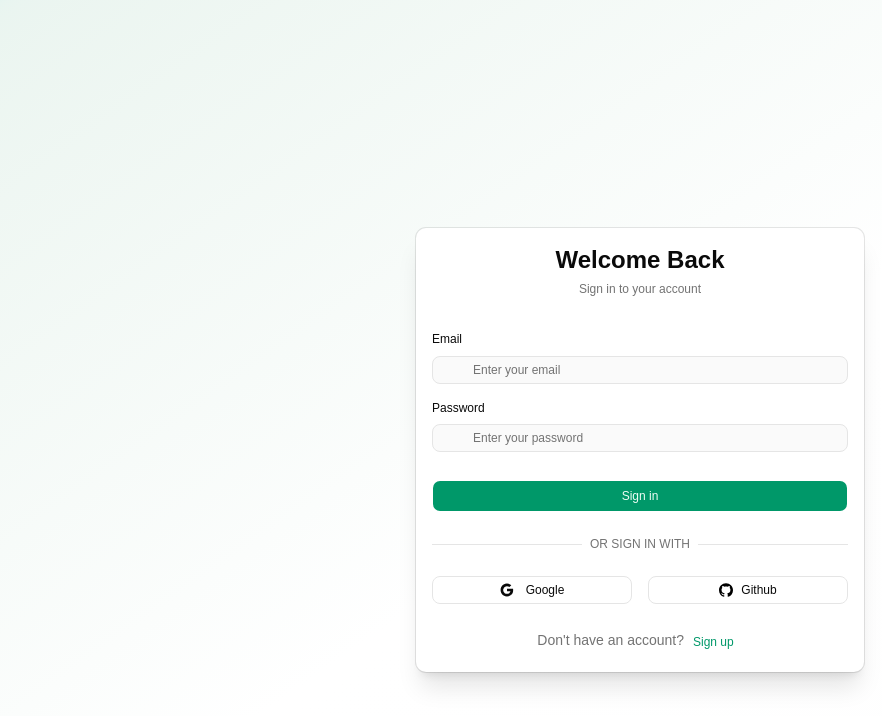
Test: LoginPage › form submission › shows server error message on failed login
The width and height of the screenshot is (882, 716).
Type "reda@example.com" into the field labelled "Email" at (640, 370), box [432,356,848,384]
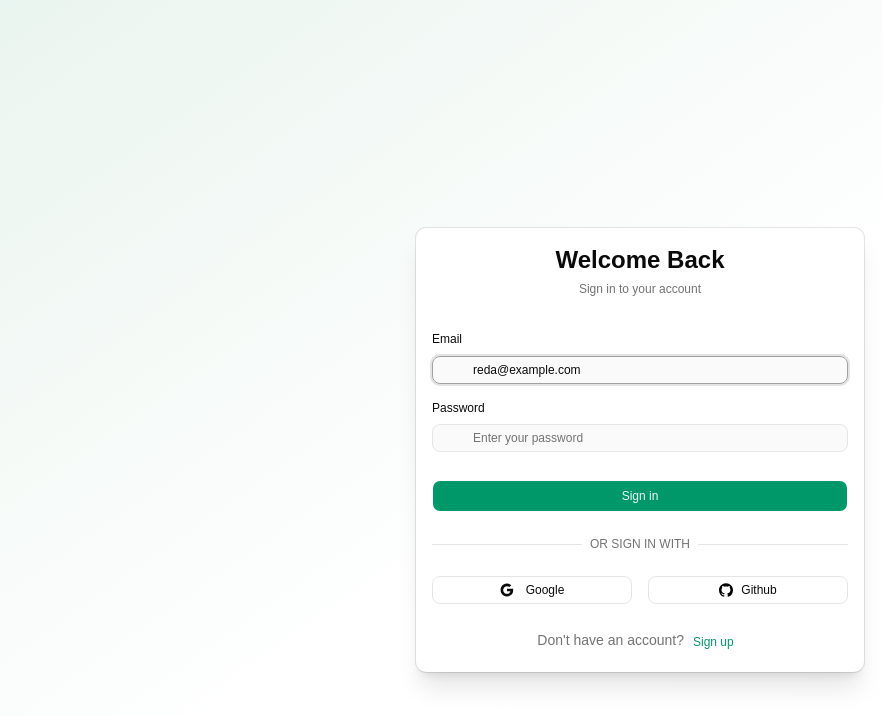
Type "Password123!" into the password field labelled "Password" at (640, 438), box [432,424,848,452]
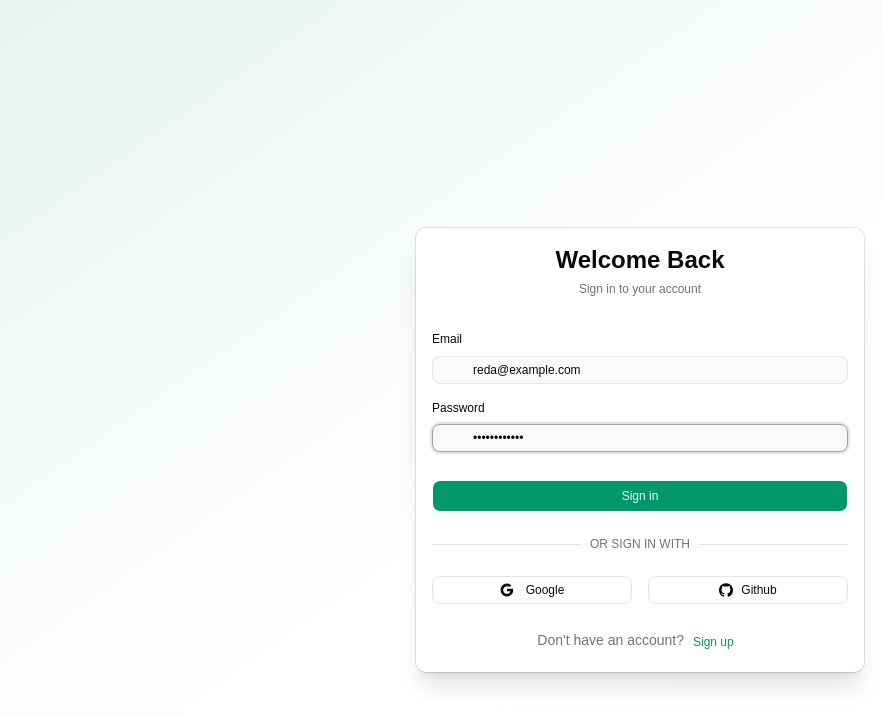
Click the button "Sign in" at (640, 496), box [432,480,848,512]
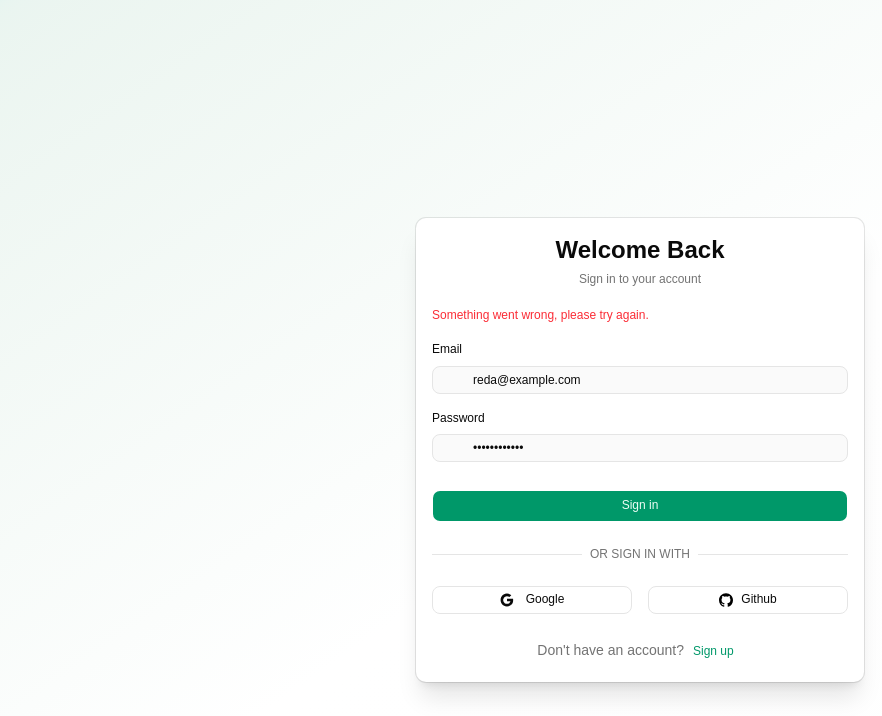
Expected: the text "Something went wrong, please try again." is shown, [432,308,649,322]
